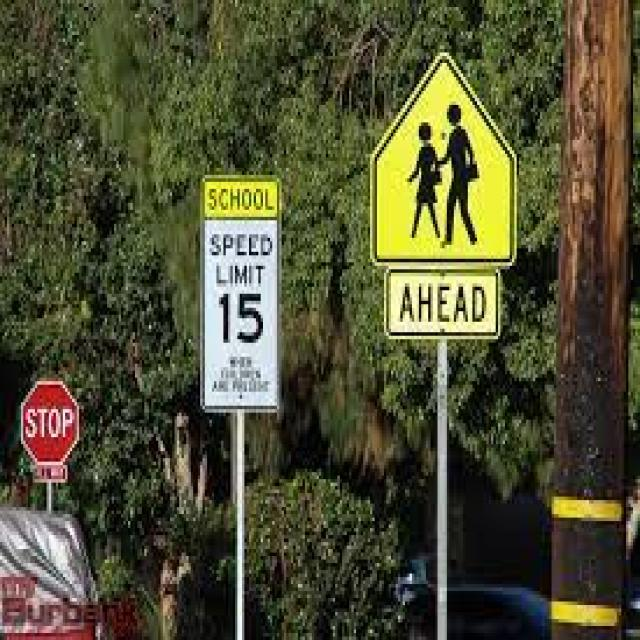speedLimit15: (199, 214, 280, 354)
